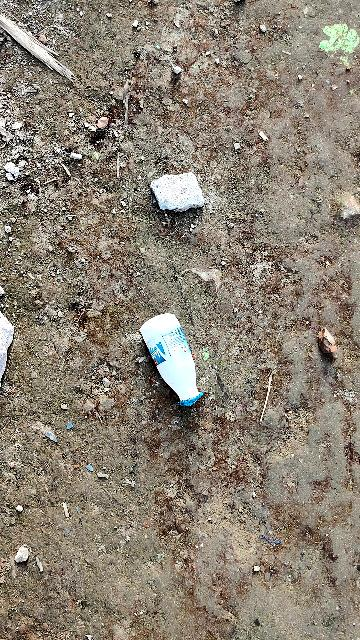bottle: (138, 315, 211, 413)
